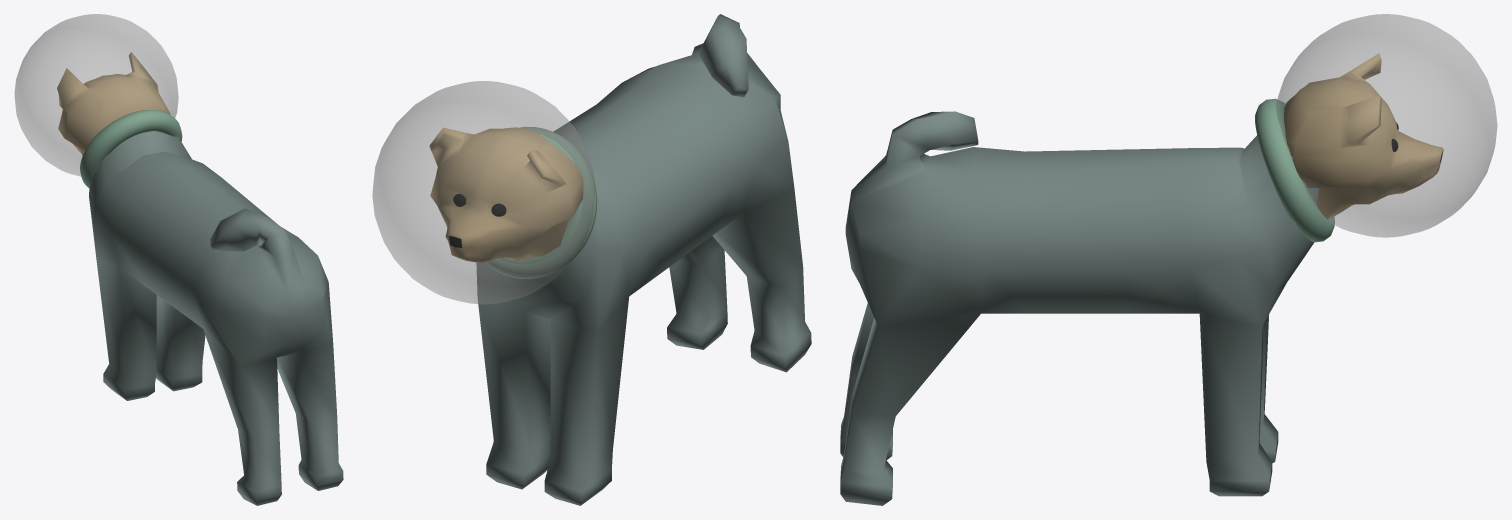
Rendered from DoggoColored01.fbx.
The picture shows the model from 3 angles, left to right: view 1: azimuth 30°, elevation 25°; view 2: azimuth 150°, elevation 25°; view 3: azimuth 270°, elevation 25°; orthographic projection. The views are drawn at different scales.
Visible parts, largest first — view 1: DogSuit; view 2: DogSuit; view 3: DogSuit.
Part boxes in pixels (x1,y1,x2,y2): DogSuit: (14, 14, 343, 505); DogSuit: (372, 14, 811, 505); DogSuit: (840, 14, 1497, 505).
Bounding box in the file's own units: 6.36 × 14.19 × 18.66.
